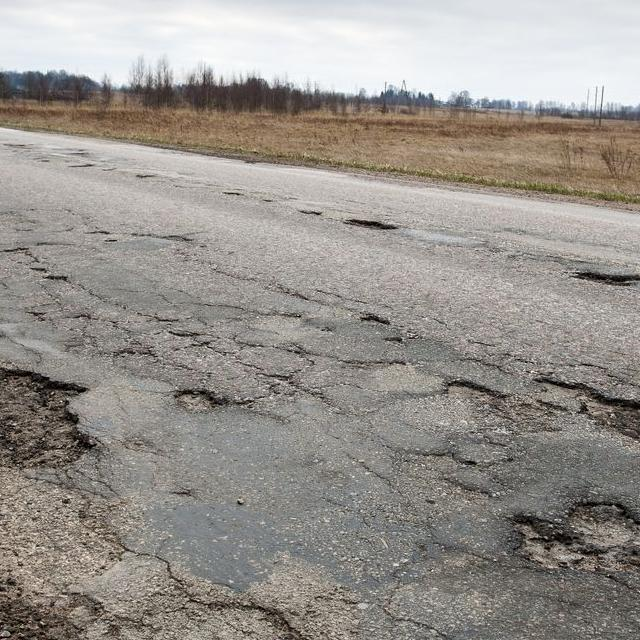lubang_kecil: (469, 464, 640, 604), (511, 346, 640, 492), (0, 348, 111, 486), (541, 236, 640, 312), (337, 190, 409, 264), (155, 380, 243, 428)
